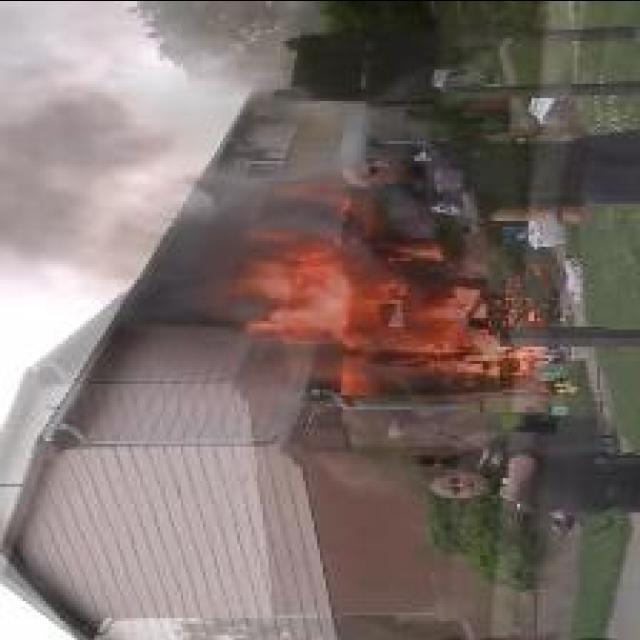Fire: (231, 222, 403, 394), (410, 282, 553, 374), (380, 237, 443, 260)
